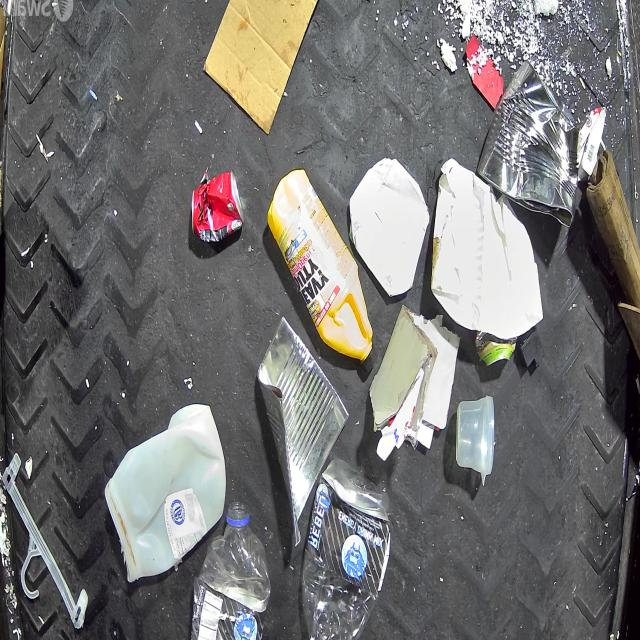can: (482, 61, 588, 232), (191, 168, 244, 242), (475, 334, 513, 366)
milk_jug: (105, 404, 226, 584)
non_white_jug: (270, 166, 378, 372)
plastic_bottle: (300, 456, 390, 640), (190, 502, 270, 640)
